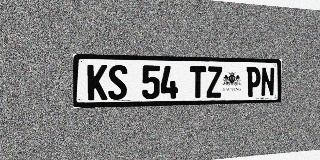4: (161, 66, 178, 99)
5: (142, 65, 160, 99)
K: (87, 64, 107, 100)
N: (261, 67, 275, 97)
P: (246, 67, 261, 97)
S: (108, 65, 127, 100)
T: (190, 66, 206, 98)
Z: (206, 66, 222, 98)
